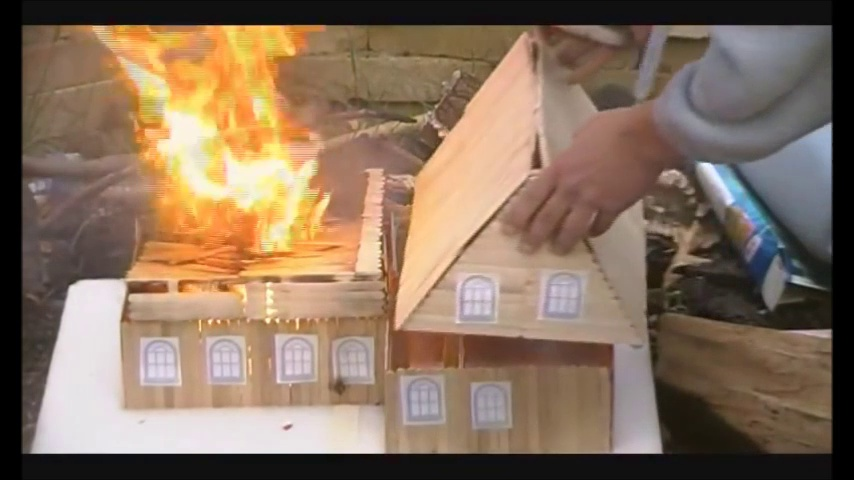fire: (96, 23, 323, 249)
